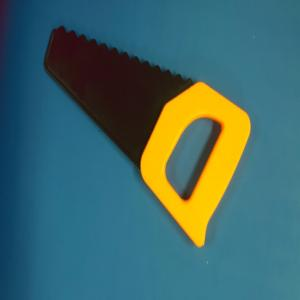serrote: (43, 23, 252, 250)
